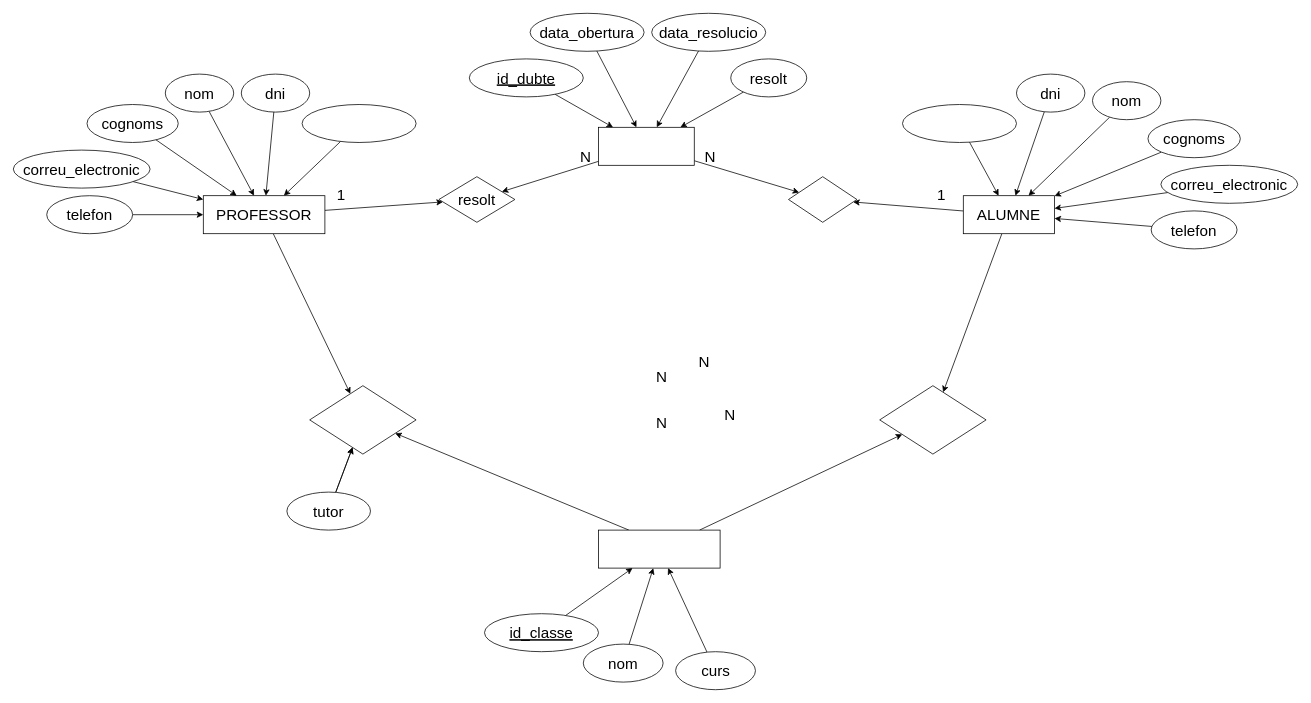
Some shapes in this 1311 by 703 pixel diagram are drawn without their labels. The box of each missing label's shape, as (x1, y1, x2, y2) in pixels:
codi_alumn: (902, 104, 1016, 142)
codi_prof: (301, 104, 416, 142)
DUBTE: (598, 127, 694, 165)
GRUPCLASSE: (598, 529, 720, 568)
imparteix: (309, 385, 416, 454)
pertany: (879, 385, 986, 454)
té: (788, 176, 857, 222)
